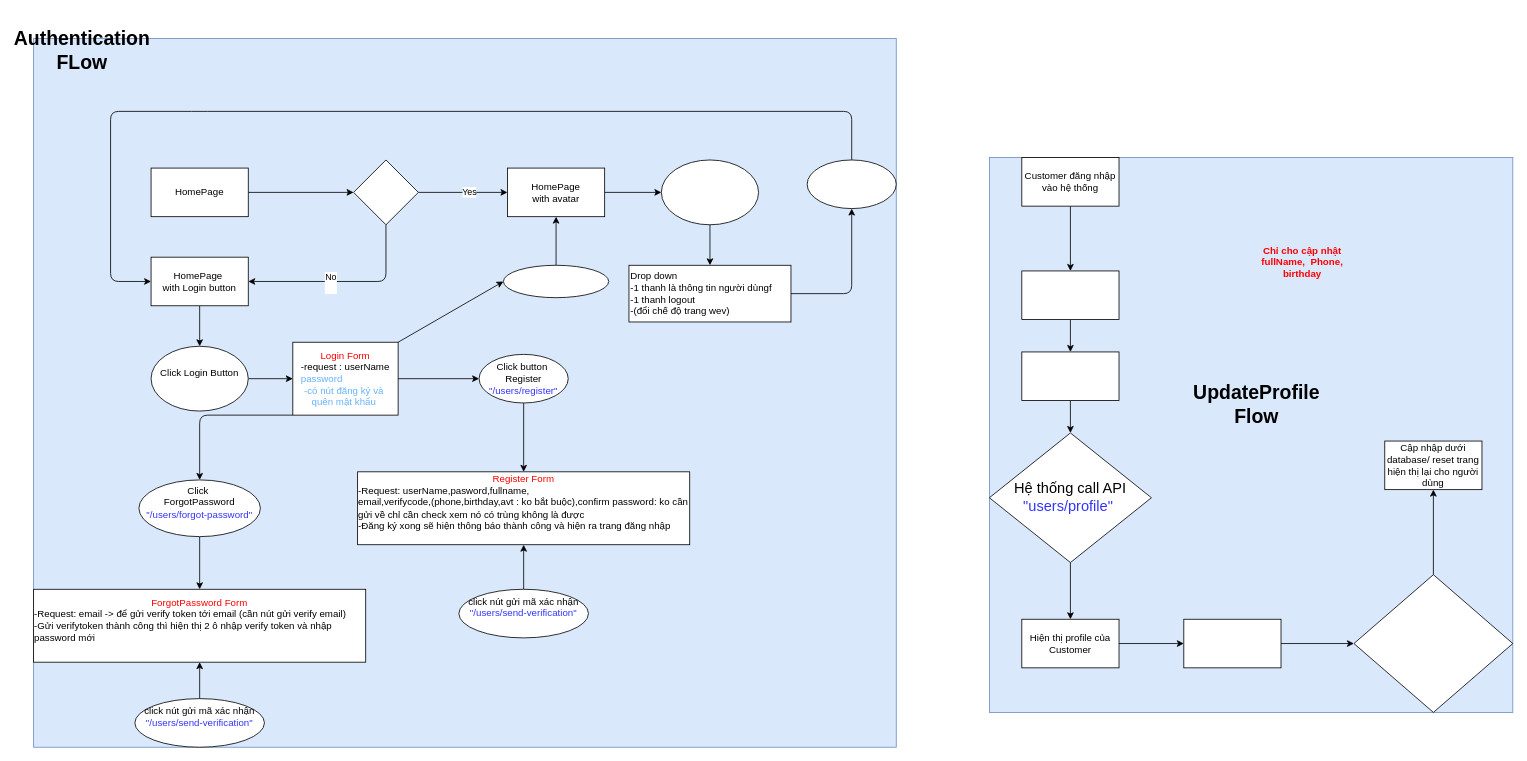
This 1527x761 diagram has some shape labels left out. The centre of each missing label's shape, as x and y in pixels:
Check role của người dùng là gì ?: (x=1070, y=376)
Click button Logout "/users/logout": (x=851, y=184)
Click nút đăng nhập "/users/login": (x=556, y=281)
Customer mục "thông tin cá nhân": (x=1070, y=295)
Login ?: (x=385, y=192)
Người dùng cập nhập profile: (x=1232, y=643)
Nhập vào Avatar: (x=710, y=192)
Ấn nút cập nhập profile "users/profile/basic": (x=1433, y=643)
